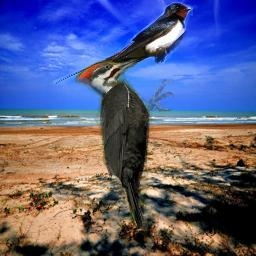Swallow: (52, 2, 193, 85)
Woodpecker: (75, 57, 174, 231)
